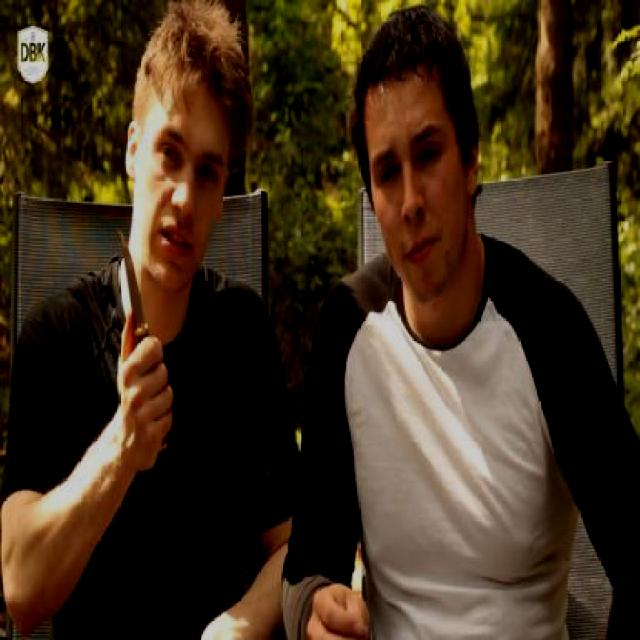knife: (108, 215, 178, 428)
